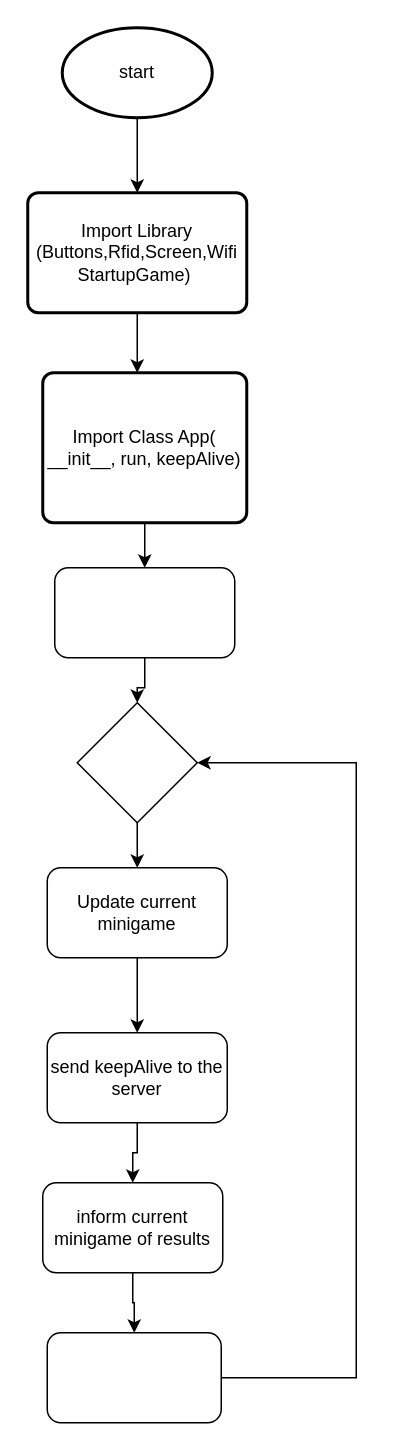
The diagram is 395 pixels wide and 1449 high, and some of its shapes have lost their labels. The centre of each missing label's shape, as x and y in pixels:
"App().run()" belongs at pixel 144 612.
"draw to screen" belongs at pixel 133 1377.
"if the game is running" belongs at pixel 136 762.
